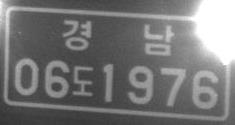0: (13, 56, 40, 96)
1: (98, 61, 120, 103)
6: (190, 68, 220, 110), (43, 58, 70, 100)
7: (159, 65, 187, 107)
9: (126, 63, 155, 106)
경남_D: (61, 18, 175, 57)
도: (71, 64, 95, 98)
